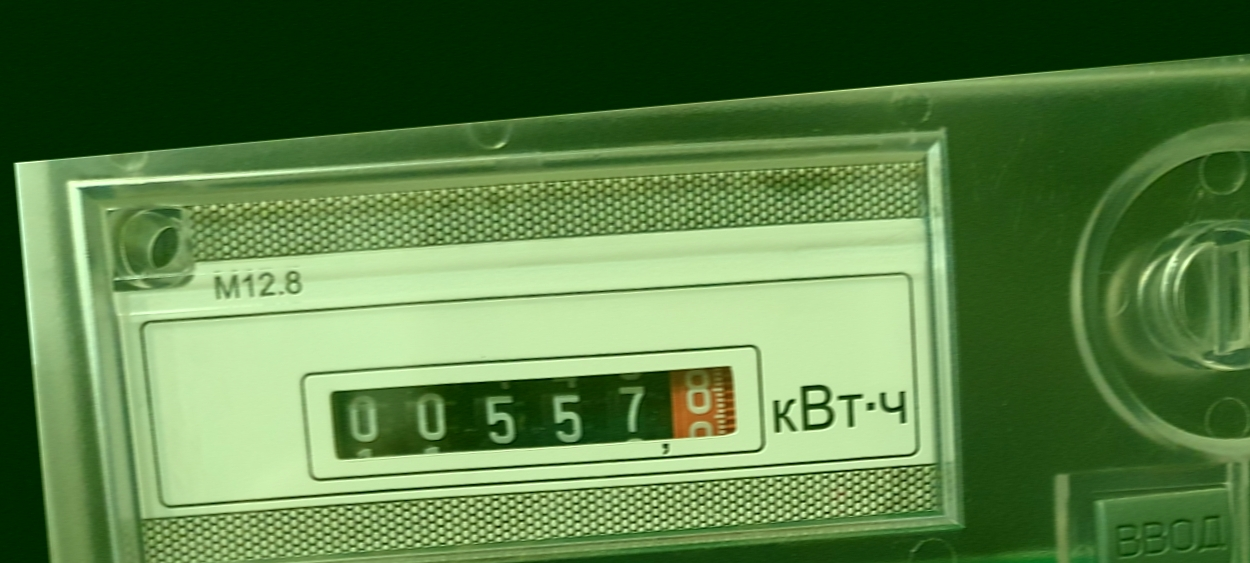0: (342, 387, 382, 446), (410, 387, 448, 442)
5: (545, 384, 588, 445), (479, 387, 518, 447)
7: (611, 378, 648, 435)
8: (681, 365, 713, 417)
screen: (294, 323, 772, 495)
